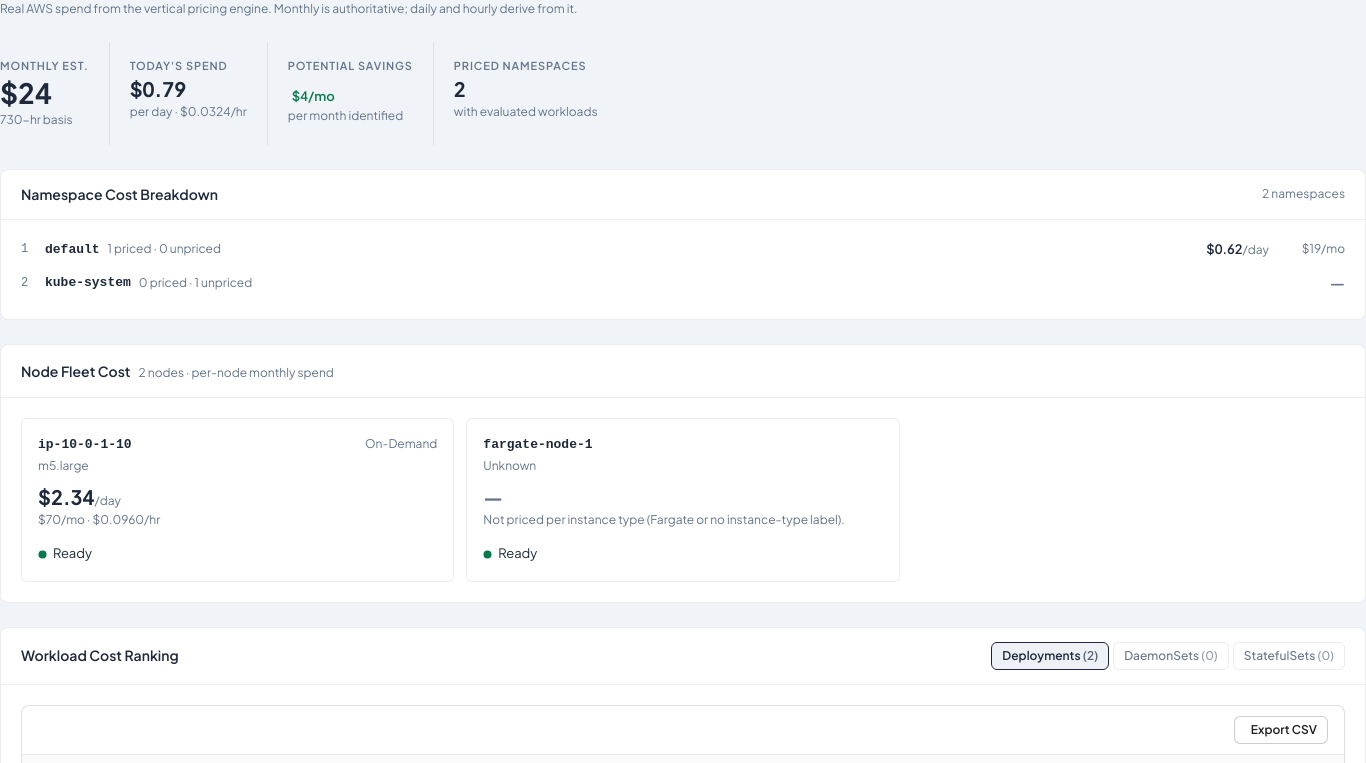
Test: EksCostTab — real engine $ (FEAT-002) › DaemonSets tab is honestly empty (not evaluated by the cost engine)
The image size is (1366, 763).
Click the button "DaemonSets (0)" at (1171, 656), box [1113,642,1229,670]
(page scrolled)
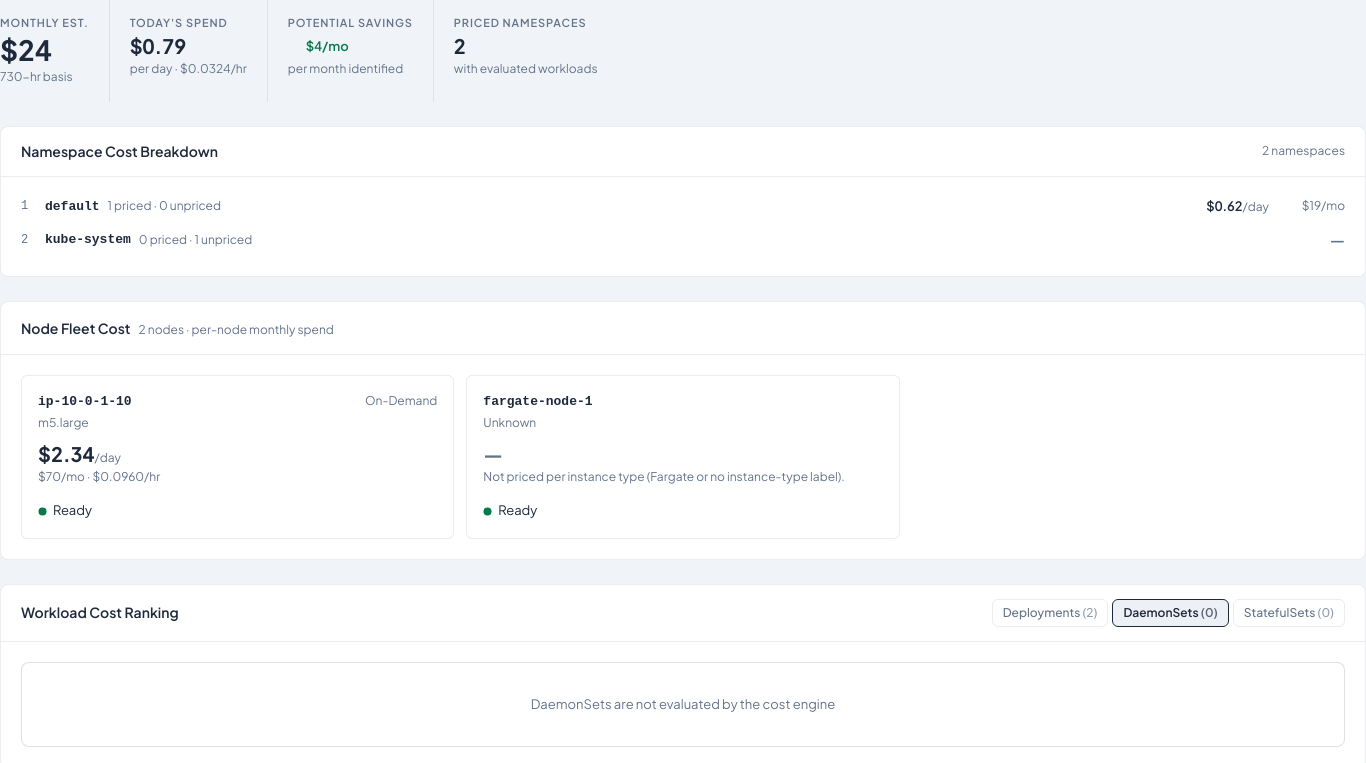
Check: the text "DaemonSets are not evaluated by the cost engine" is shown, box [531,696,835,712]
